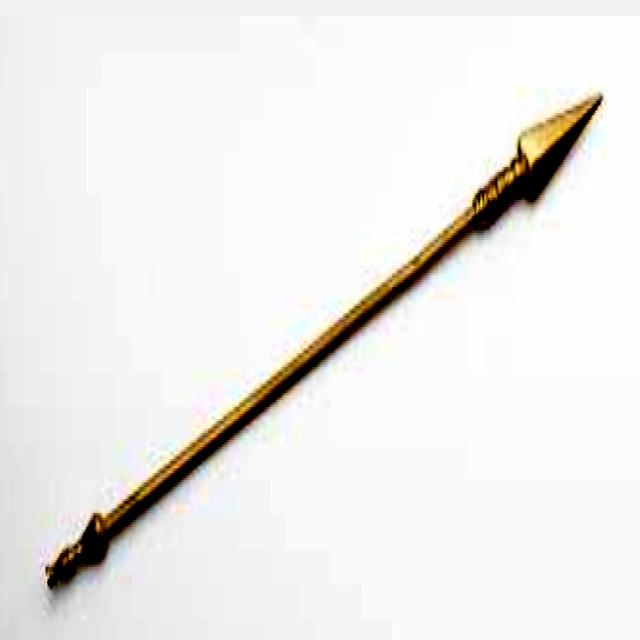spear: (35, 85, 611, 599)
